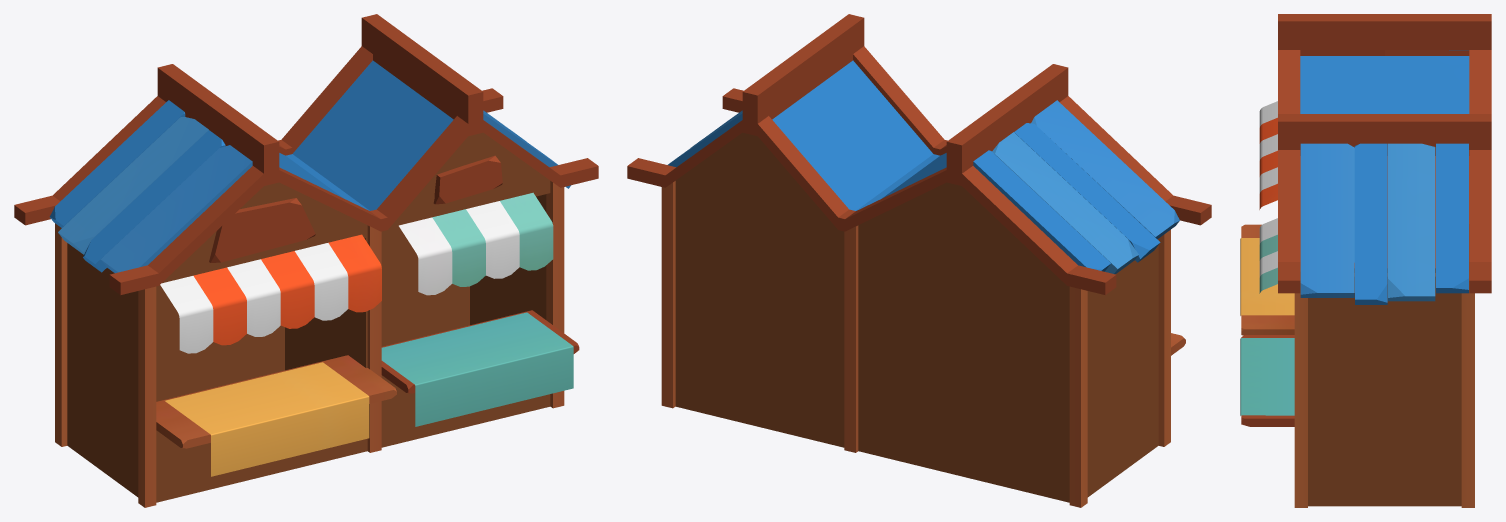
Rendered from shop-02.glb.
The picture shows the model from 3 angles, left to right: view 1: azimuth 30°, elevation 25°; view 2: azimuth 150°, elevation 25°; view 3: azimuth 270°, elevation 25°; orthographic projection.
Parts seen in each view (by area): view 1: shop 02; view 2: shop 02; view 3: shop 02.
Boxes of the visible parts, bbox=[...] form: shop 02: bbox=[14, 14, 598, 507]; shop 02: bbox=[627, 14, 1211, 507]; shop 02: bbox=[1240, 14, 1491, 507].
Bounding box in the file's own units: 3.86 × 2.64 × 1.75.
Materials: 1 (1 with a texture image).
